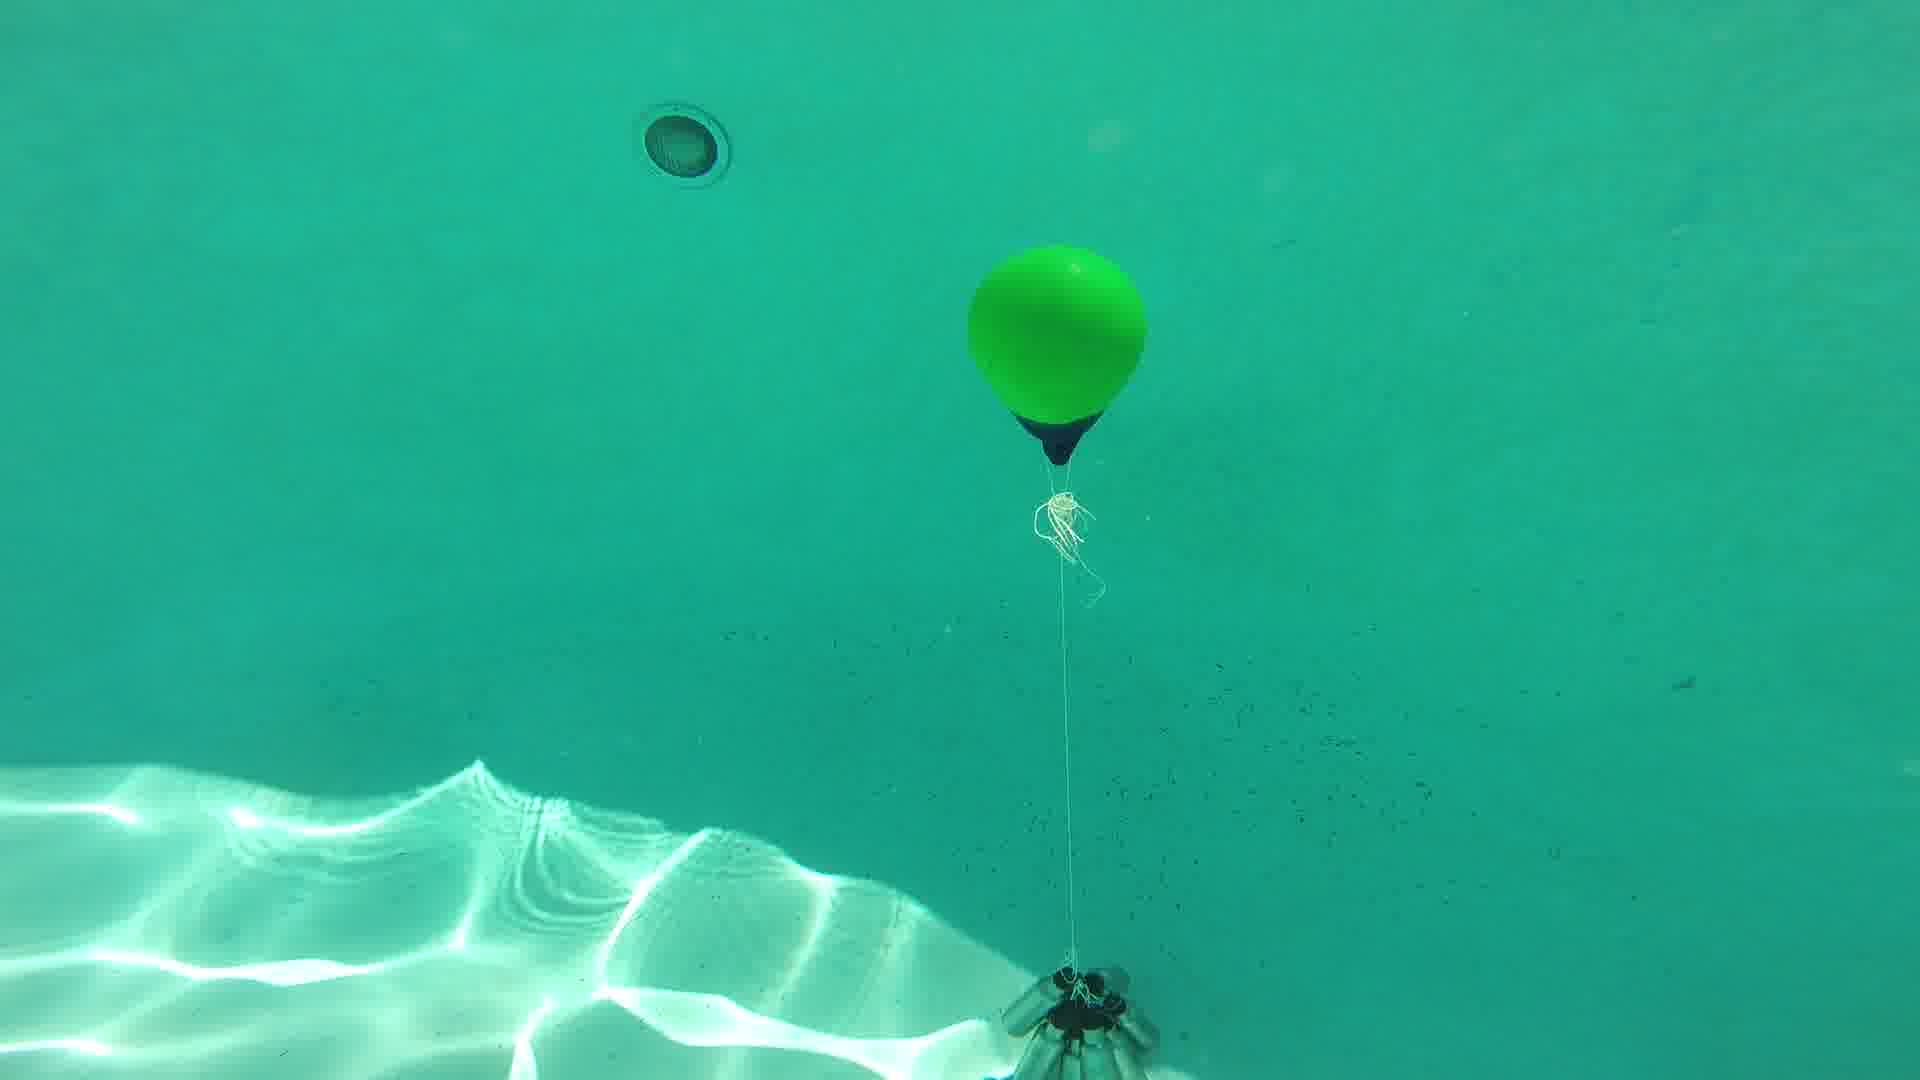yellow_buoy: (965, 244, 1146, 467)
